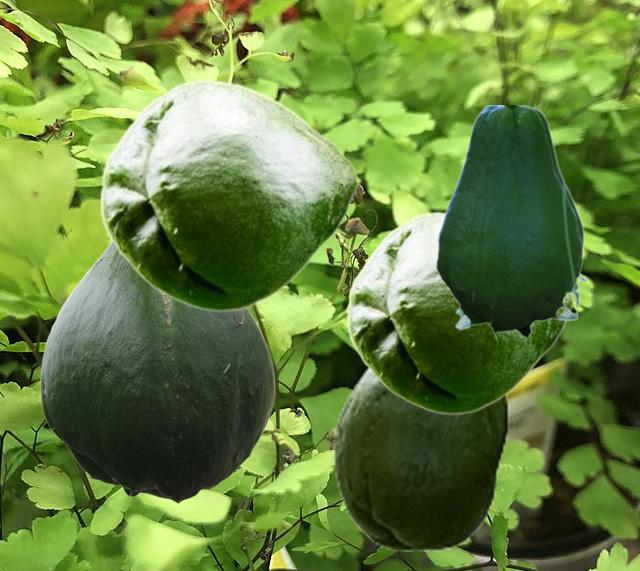sayote: (40, 242, 274, 503), (99, 79, 358, 311), (346, 211, 573, 414), (435, 105, 588, 342), (333, 367, 508, 550)
